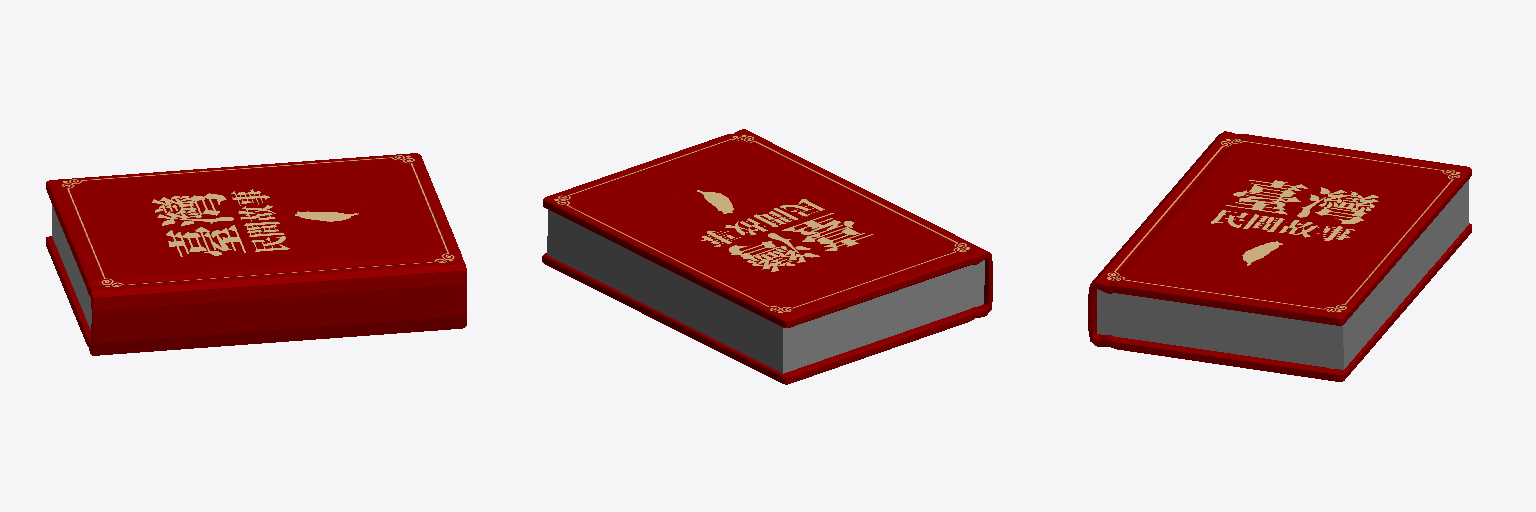
3 renders of one model, left to right at view 1: azimuth 30°, elevation 25°; view 2: azimuth 150°, elevation 25°; view 3: azimuth 270°, elevation 25°, orthographic.
Parts seen in each view (by area): view 1: Line064, Box082; view 2: Line064, Box082; view 3: Line064, Box082.
Part boxes in pixels (x1,y1,x2,y2): Line064: (46, 153, 466, 355); Box082: (52, 205, 91, 329); Line064: (542, 129, 992, 384); Box082: (547, 210, 984, 373); Line064: (1088, 131, 1471, 381); Box082: (1097, 180, 1468, 369).
Bounding box in the file's own units: 16.17 × 2.68 × 13.83.
2 materials, 1 textured.